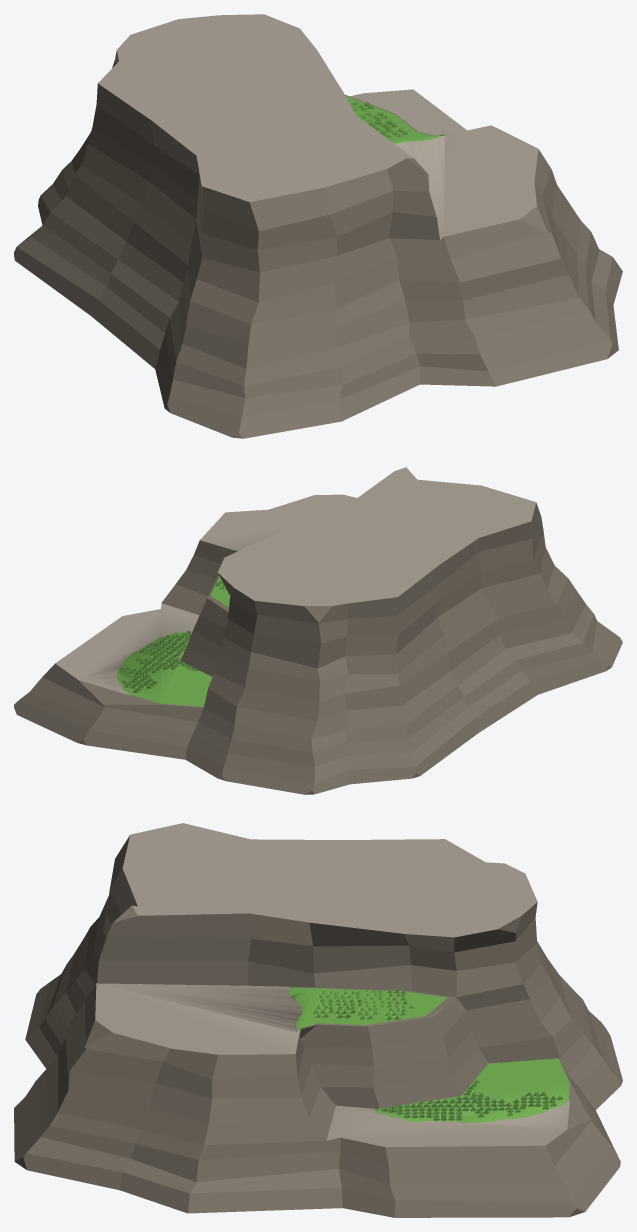
Rendered from MOUNTAIN1.fbx.
The picture shows the model from 3 angles, top to bottom: view 1: azimuth 30°, elevation 25°; view 2: azimuth 150°, elevation 25°; view 3: azimuth 270°, elevation 25°; orthographic projection. The views are drawn at different scales.
Visible parts, largest first — view 1: Plane; view 2: Plane; view 3: Plane.
Boxes of the visible parts, x1,y1,x2,y2 form: Plane: (14, 14, 622, 438); Plane: (14, 467, 622, 794); Plane: (14, 823, 622, 1217).
Size of the model in its own units: 13068 by 4871 by 14045.
